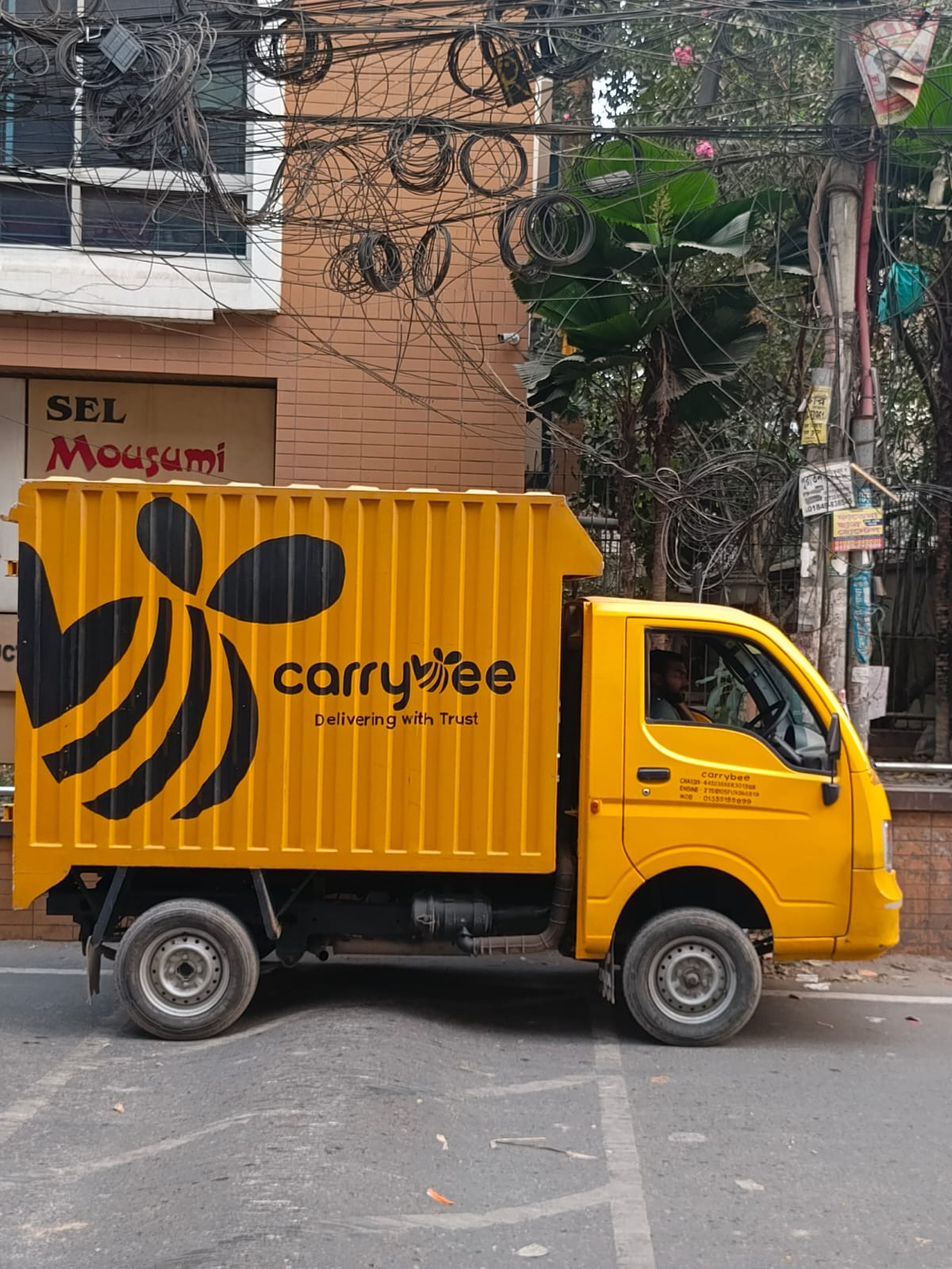Pickup: (8, 461, 910, 1049)
